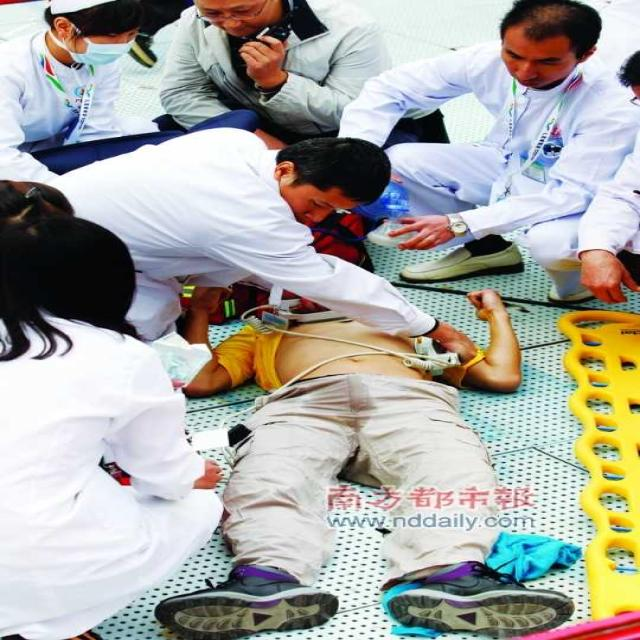nofight: (380, 5, 624, 288)
